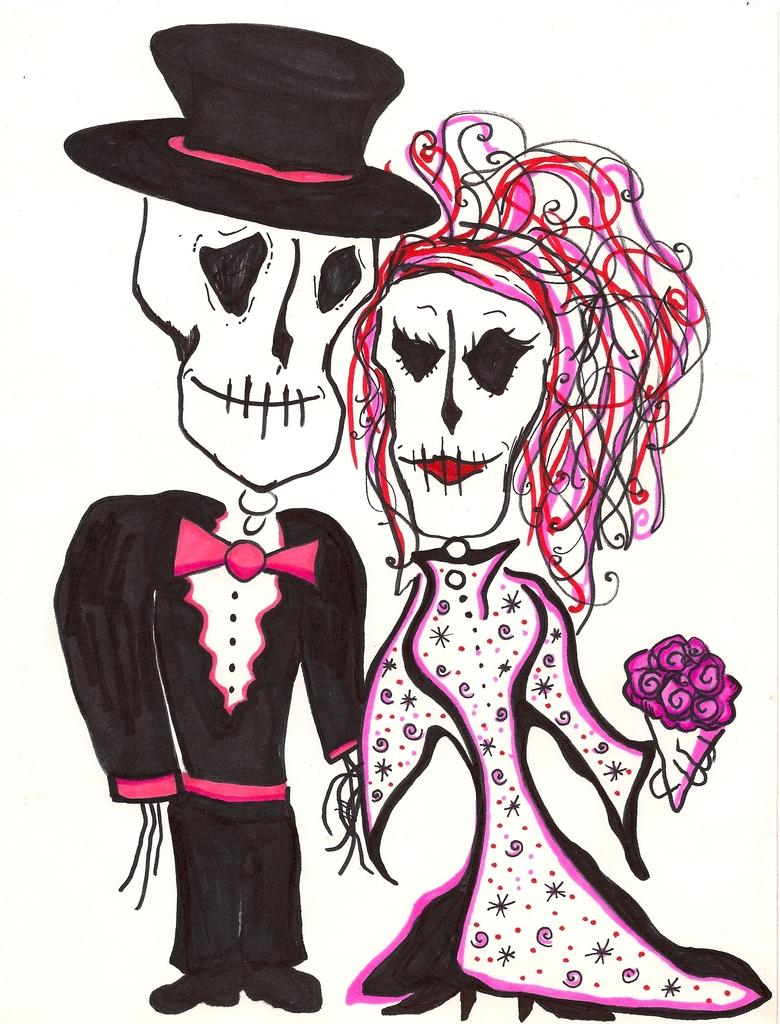Hat: (65, 25, 438, 240)
